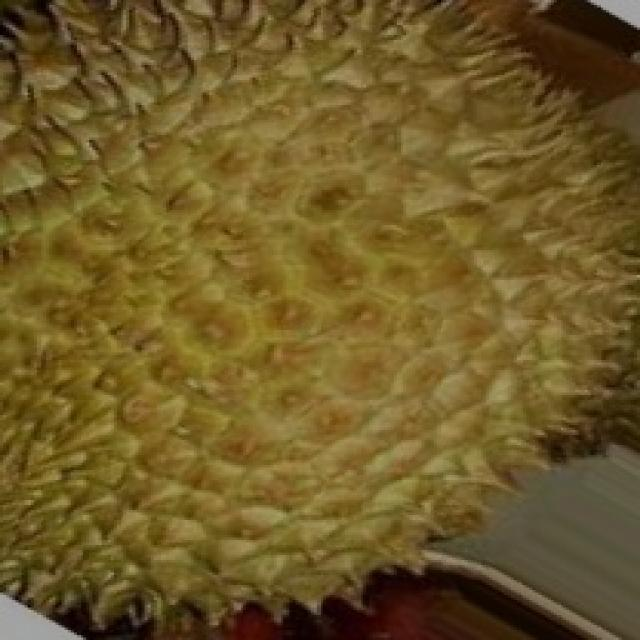fruit: (243, 252, 637, 640), (0, 242, 342, 640)
